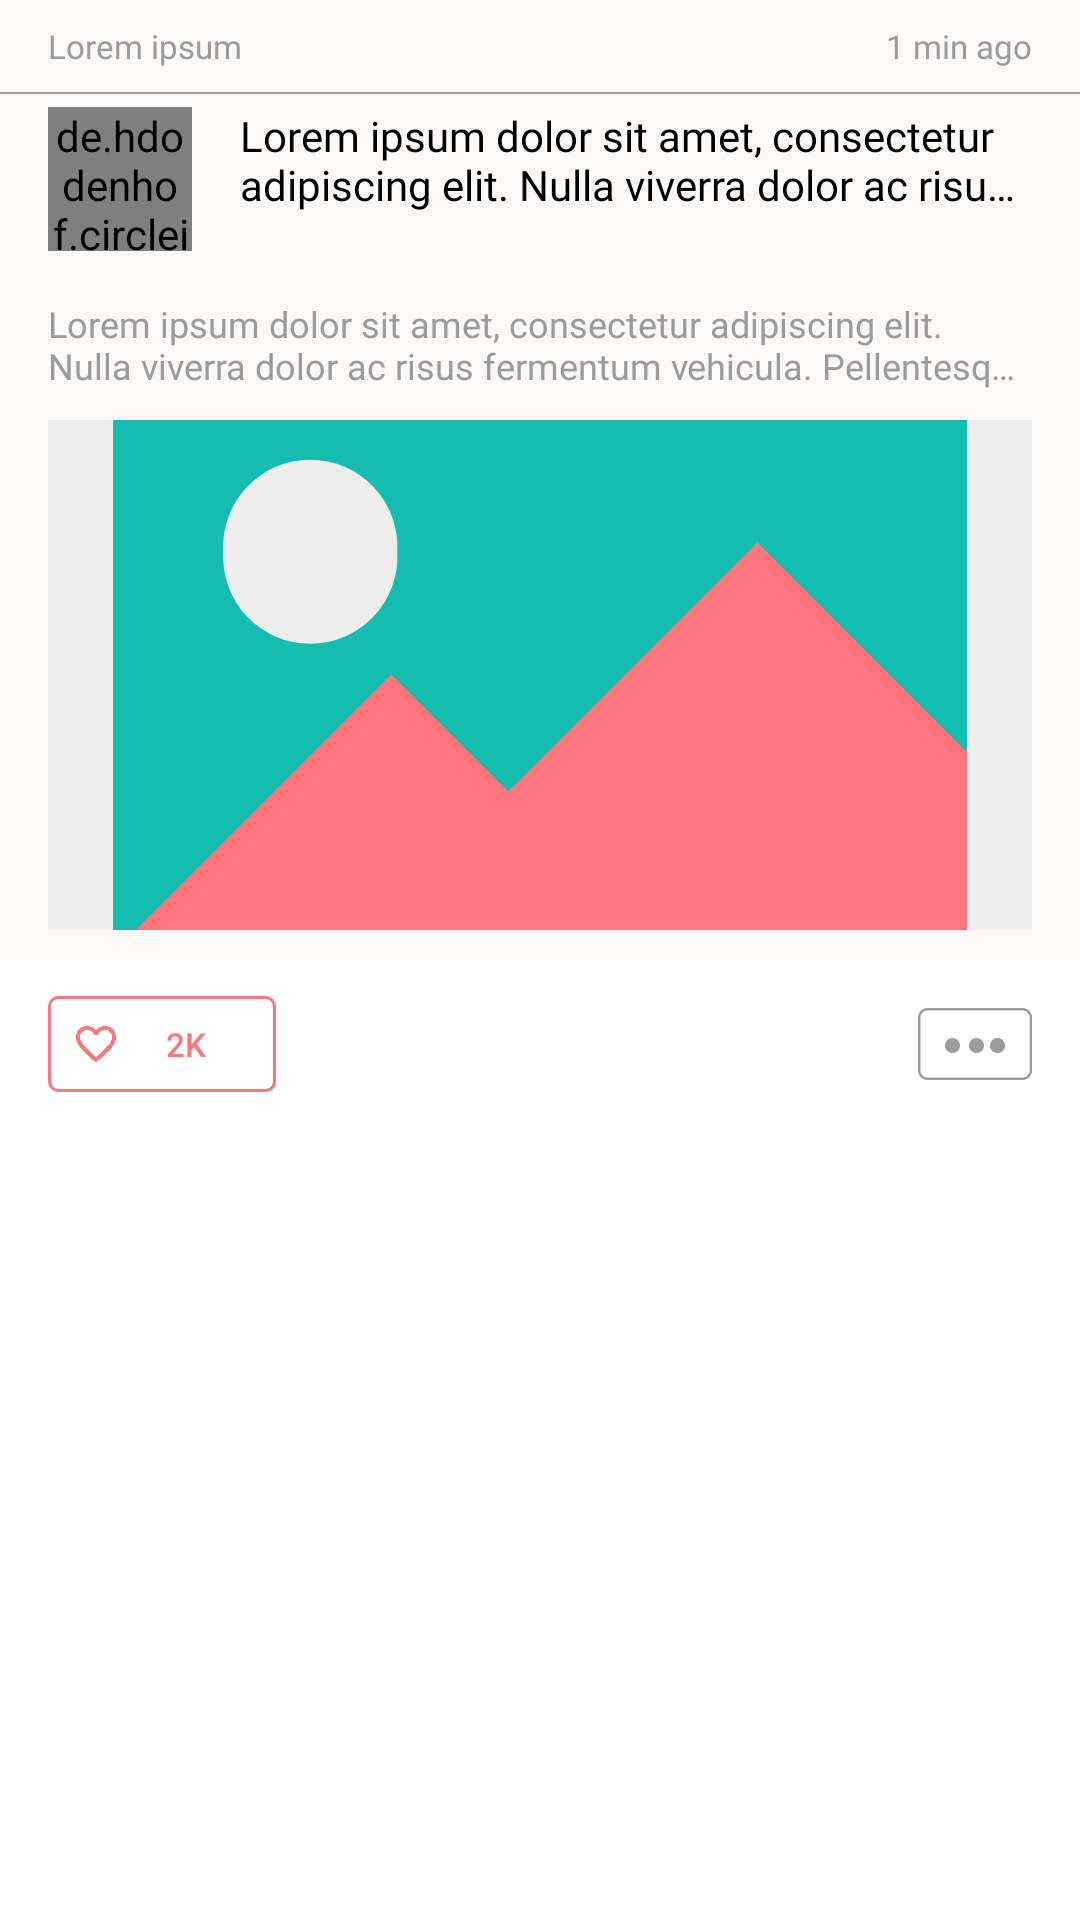

Screen size 1080×1920. Icon name, then its center in pixels as point (x, y):
menu: point (975, 1044)
